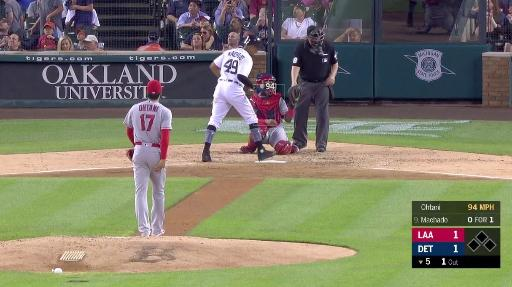pitcher: (123, 79, 174, 238)
